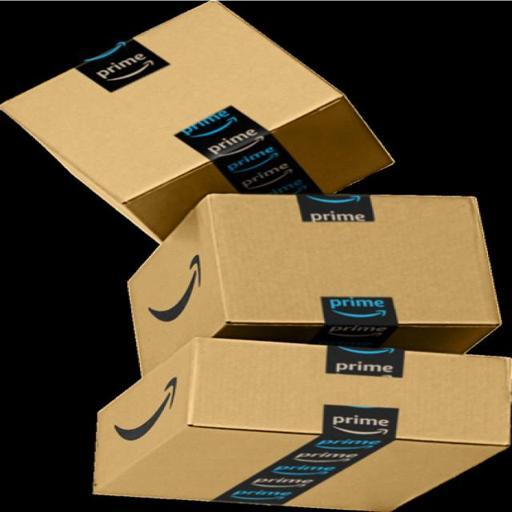Amazon: (5, 5, 383, 235), (96, 335, 511, 512), (126, 188, 497, 359)
